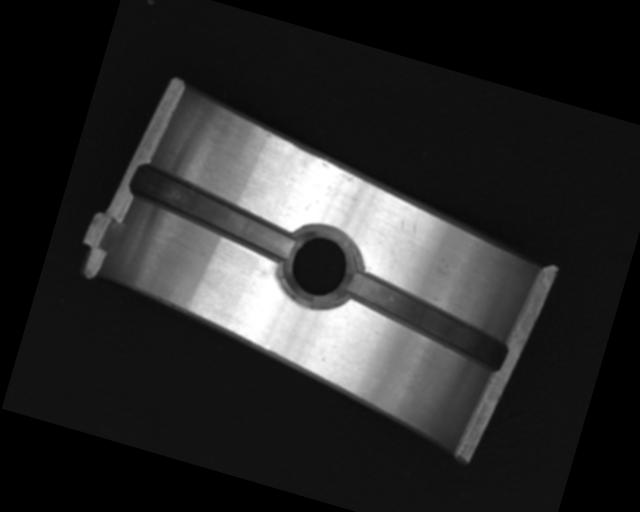gap: (336, 267, 516, 373), (122, 161, 305, 265)
hole: (277, 218, 366, 313)
